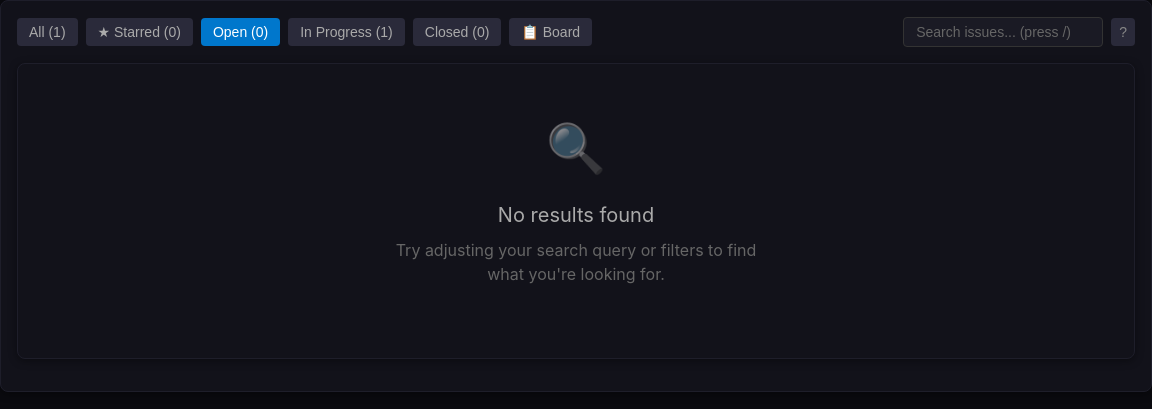
Test: IssueList › basic rendering › displays status badge
Note: Need to switch to All or In Progress filter to see in_progress issues
What coordinates should you click on to do the following:
click the button "In Progress (1)"
I would click on:
 (346, 32)
Its box is [288,18,405,46].
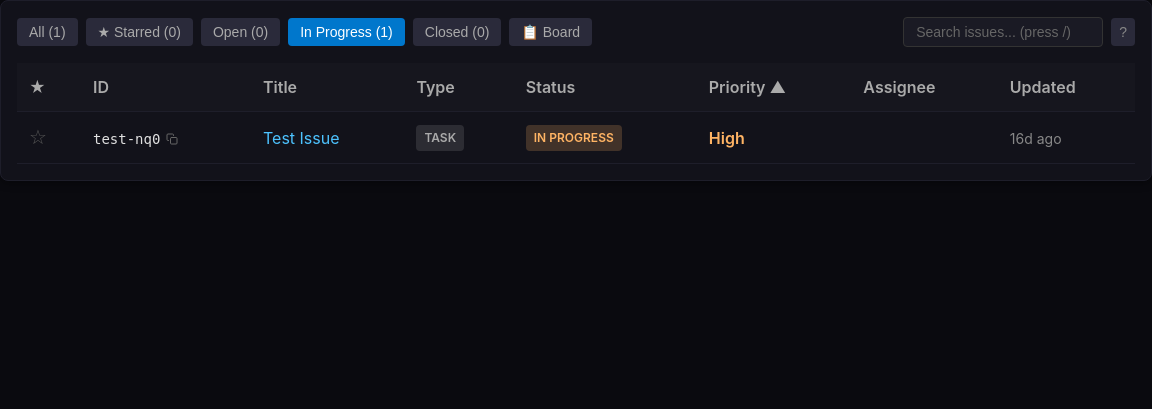
expect the text "in progress" is shown: met, box [526,125,622,151]
